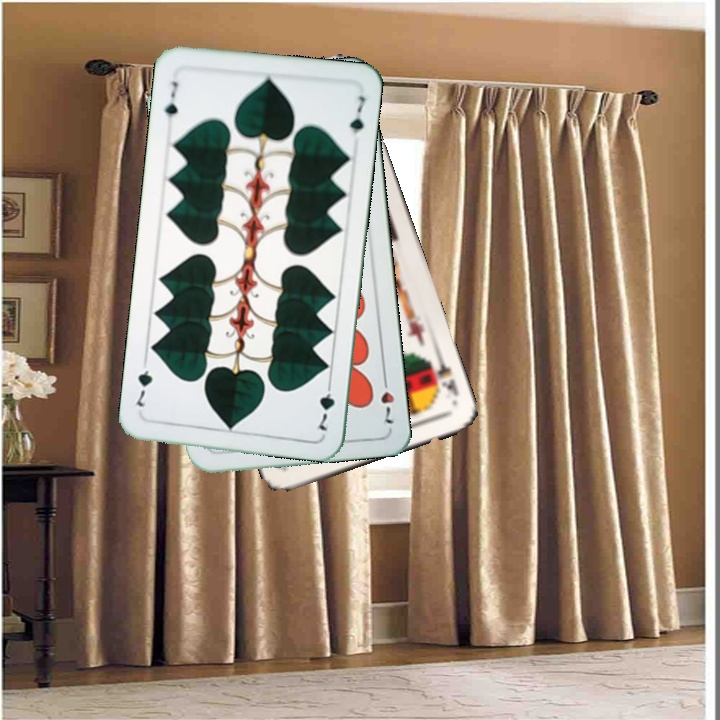G7: (312, 376, 337, 433), (161, 77, 181, 120)
H7: (376, 370, 397, 428)
SK: (424, 350, 461, 407)
